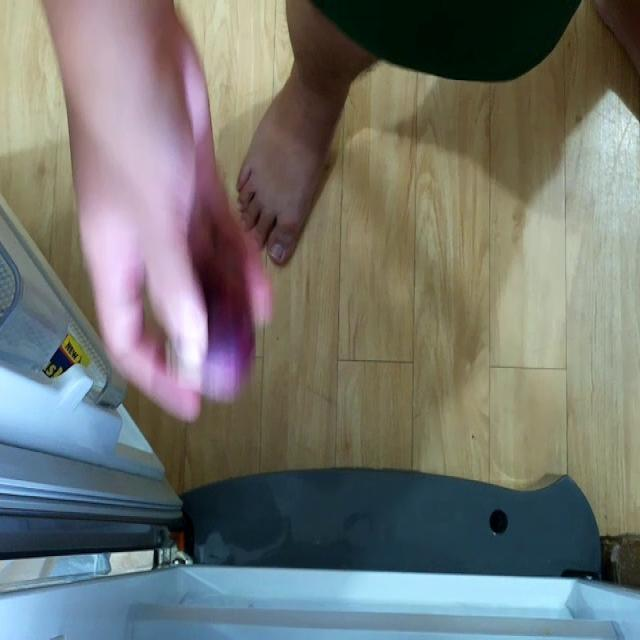onion: (166, 268, 257, 410)
